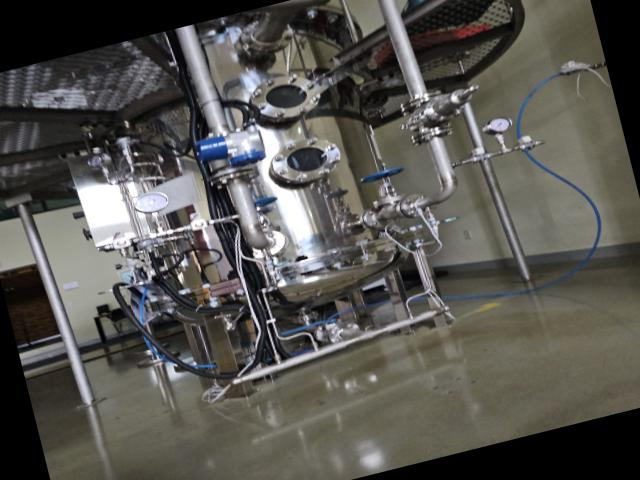Flange: (264, 132, 346, 192), (246, 68, 326, 128)
Flush Ring: (234, 13, 298, 60), (234, 225, 292, 265), (205, 161, 260, 192), (398, 88, 447, 116), (359, 200, 400, 232), (394, 190, 434, 222), (325, 318, 364, 347), (410, 123, 456, 147)
GasRegulator: (82, 130, 169, 200)
Nuts: (108, 235, 134, 253), (186, 216, 212, 234), (516, 138, 542, 154), (469, 150, 494, 164)
Piston Valve: (358, 165, 411, 210), (233, 194, 283, 238)
Pressure Gage: (130, 188, 177, 236), (479, 114, 519, 154)
